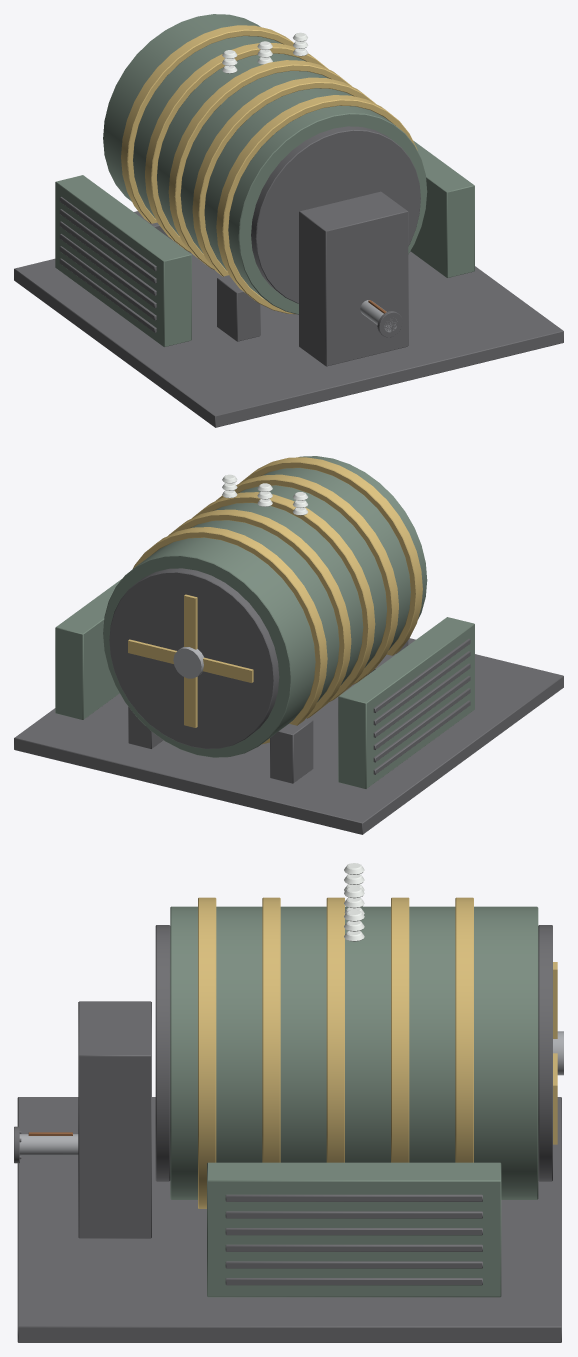
The model's file is feDynamo2.fbx.
3 renders of one model, top to bottom at view 1: azimuth 30°, elevation 25°; view 2: azimuth 150°, elevation 25°; view 3: azimuth 270°, elevation 25°, orthographic. The views are drawn at different scales.
Visible parts, largest first — view 1: feDynamo2_Base, FeSpin_Dynamo2In; view 2: feDynamo2_Base, FeSpin_Dynamo2Rotor; view 3: feDynamo2_Base, FeSpin_Dynamo2In, FeSpin_Dynamo2Rotor.
Boxes of the visible parts, x1,y1,x2,y2 form: feDynamo2_Base: (14, 14, 563, 427); FeSpin_Dynamo2In: (360, 300, 402, 337); feDynamo2_Base: (14, 456, 563, 834); FeSpin_Dynamo2Rotor: (128, 594, 253, 727); feDynamo2_Base: (17, 863, 561, 1342); FeSpin_Dynamo2In: (14, 1126, 78, 1163); FeSpin_Dynamo2Rotor: (553, 962, 563, 1144).
Size of the model in its own units: 2.96 by 2.04 by 2.99.
